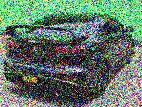car: (3, 6, 137, 101)
